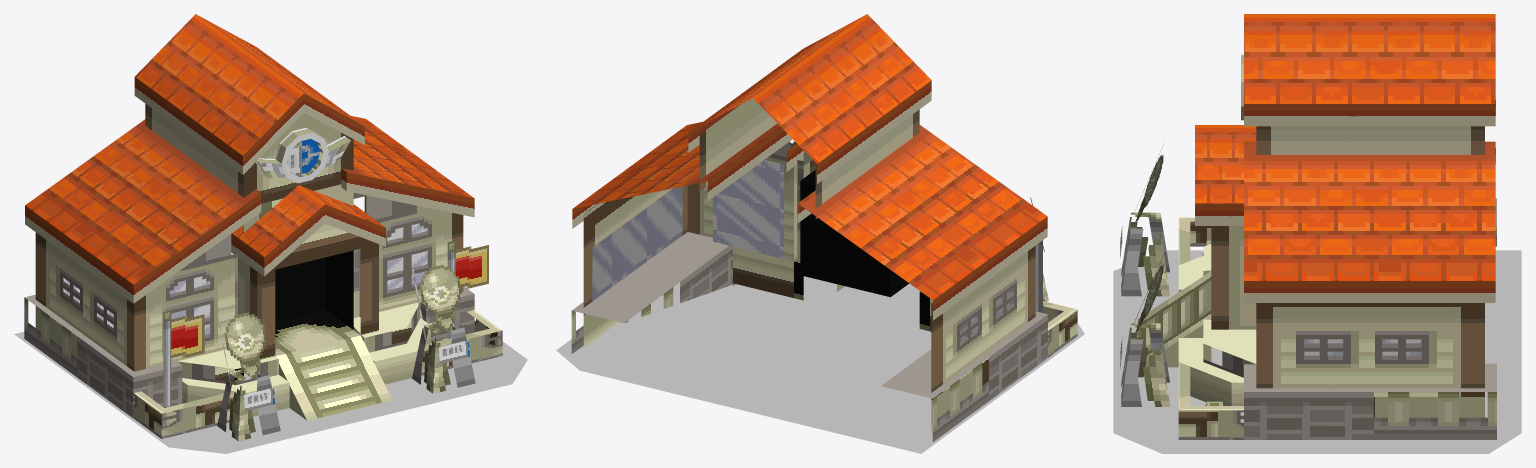
The model's file is gym.dae.
3 renders of one model, left to right at view 1: azimuth 30°, elevation 25°; view 2: azimuth 150°, elevation 25°; view 3: azimuth 270°, elevation 25°, orthographic. The views are drawn at different scales.
Visible parts, largest first — view 1: c12_gym_01; view 2: c12_gym_01; view 3: c12_gym_01.
Part boxes in pixels (box(x1,y1,x2,y2)): c12_gym_01: box(14, 14, 527, 453); c12_gym_01: box(556, 14, 1084, 453); c12_gym_01: box(1113, 14, 1521, 453).
Bounding box in the file's own units: 118 × 90 × 100.
